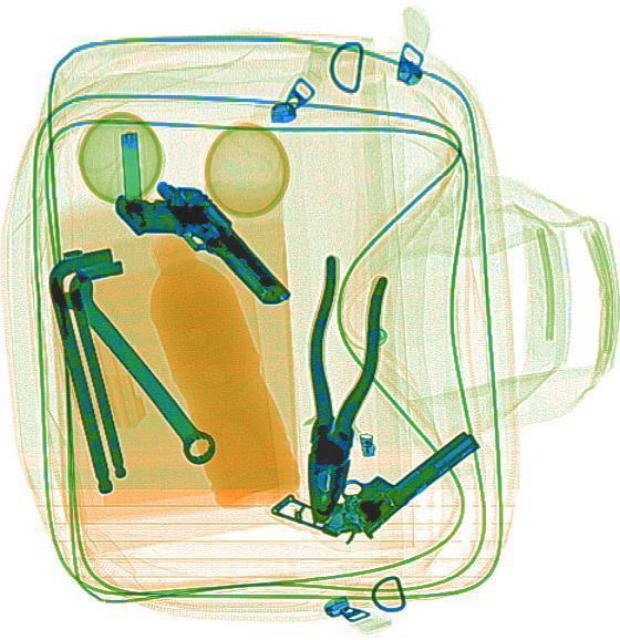Gun: (268, 428, 478, 542), (116, 178, 289, 302)
Pliers: (280, 252, 390, 524)
Wrench: (37, 256, 222, 474)
